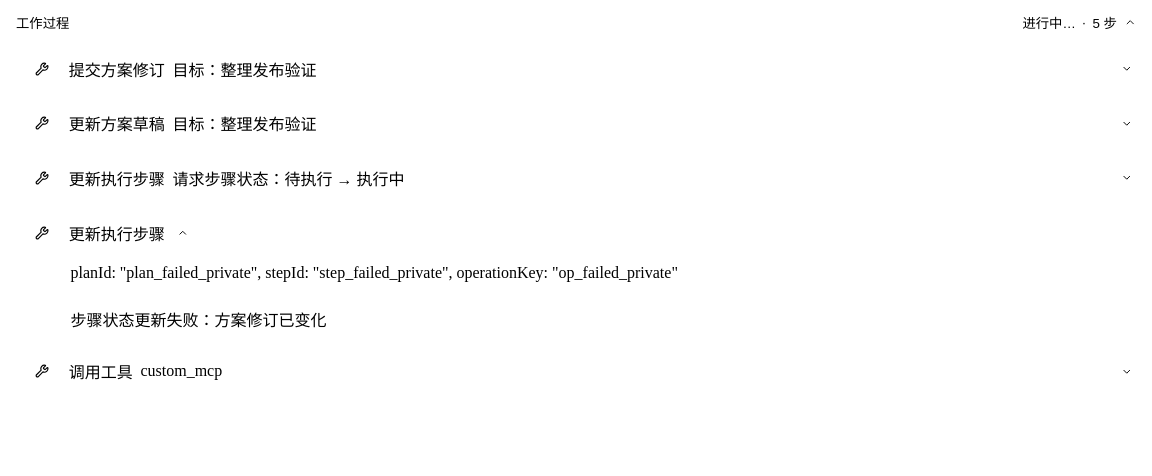
Test: ChatTimeline › 用中文动作与目标折叠展示 Plan 工具且展开不重复摘要
Expected: the button with aria-label "调用工具，custom_mcp" is shown, [60,355,1142,387]
Click the button with aria-label "更新执行步骤，请求步骤状态：待执行 → 执行中，等待执行": click(117, 179) [60,162,1142,194]
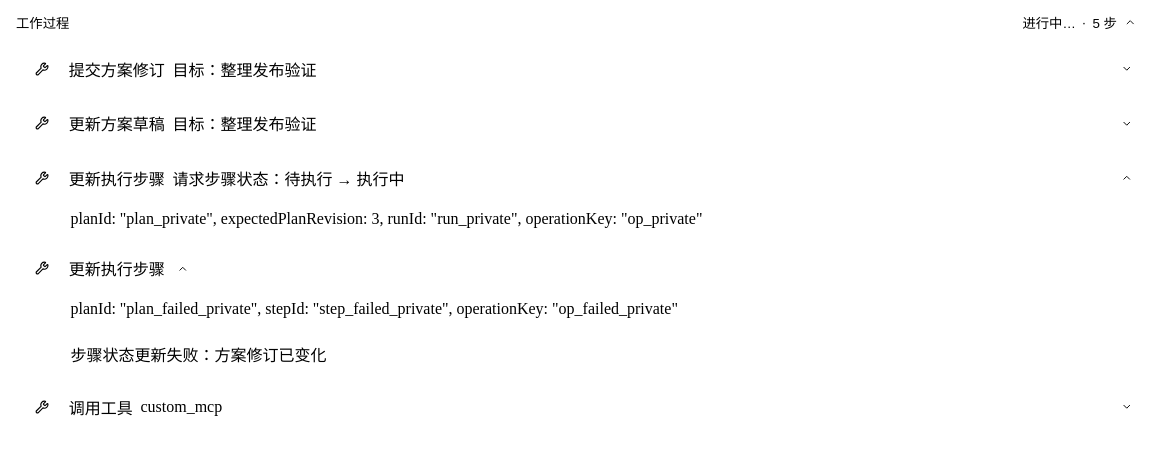
Expected: the text "请求步骤状态：待执行 → 执行中" is shown once, [172,171,404,188]
Now the text "planId: \"plan_private\"" is shown, box [70,210,702,226]
Click the button with aria-label "调用工具，custom_mcp": click(101, 408) [60,391,1142,423]
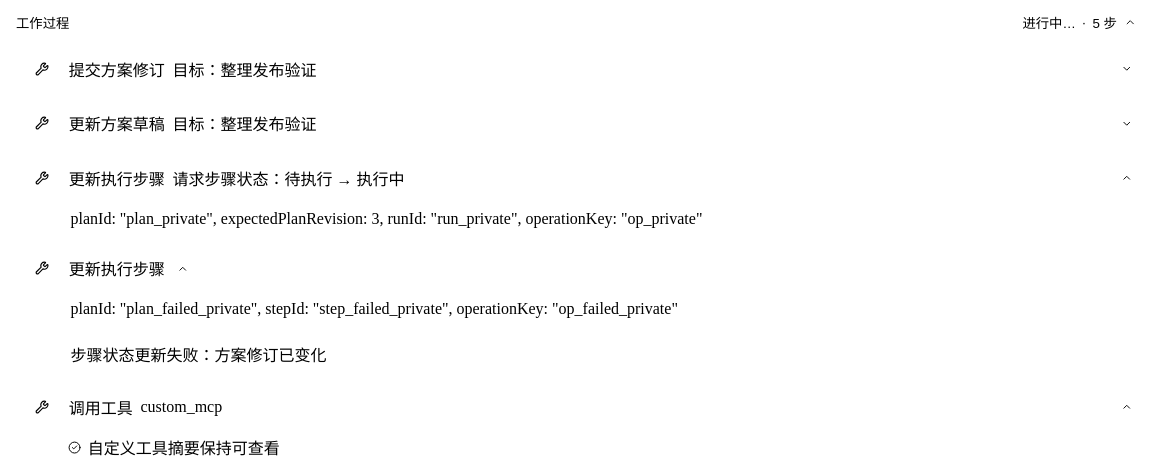
Now the text "自定义工具摘要保持可查看" is shown, box [88,435,280,459]
